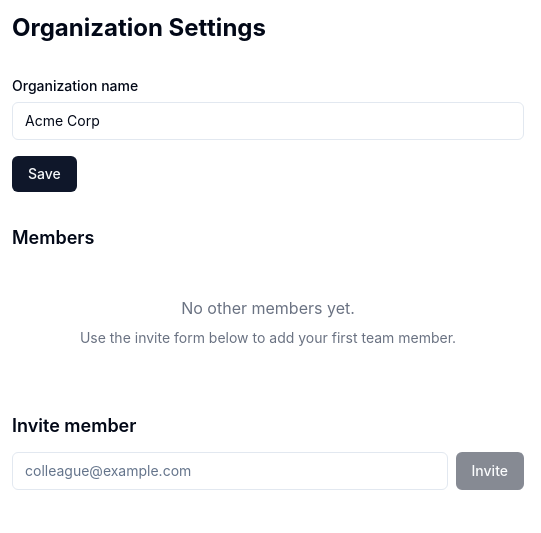
Test: OrgSettingsPage › shows conflict message when inviting an existing member
This screenshot has width=541, height=533.
Type "member@example.com" into the field with placeholder "colleague@example.com" at (230, 471), box [12,452,448,490]
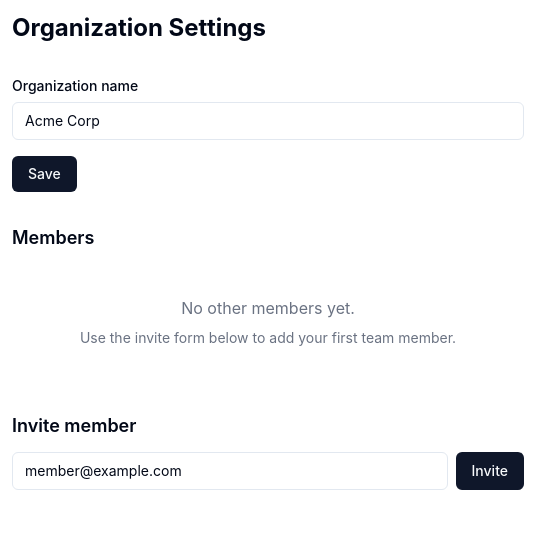
Submit the form "Invite", box [12,452,524,490]
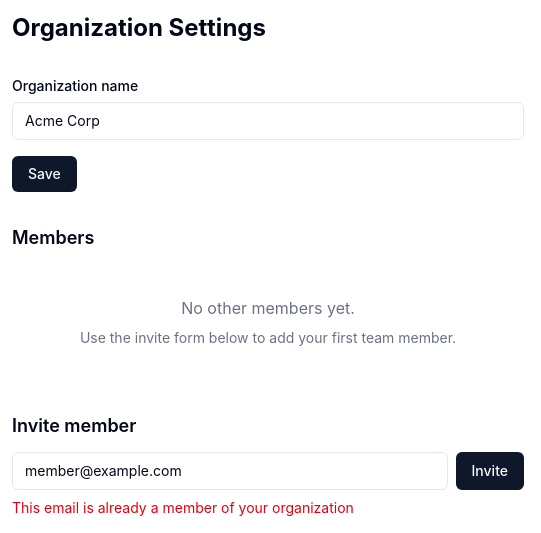
Now the message "This email is already a member of your organization" is shown, box [12,499,354,516]
